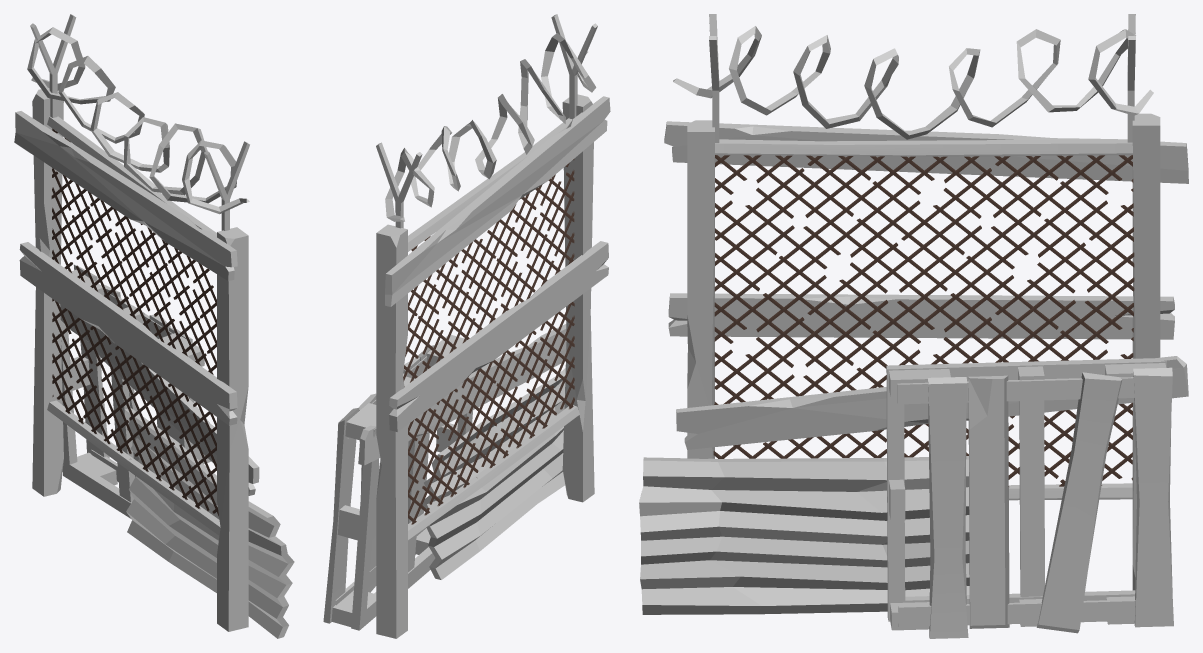
File: SM_Prop_Wall_Junk_06.fbx
3 renders of one model, left to right at view 1: azimuth 30°, elevation 25°; view 2: azimuth 150°, elevation 25°; view 3: azimuth 270°, elevation 25°, orthographic. The views are drawn at different scales.
Visible parts, largest first — view 1: SM_Prop_Wall_Junk_06; view 2: SM_Prop_Wall_Junk_06; view 3: SM_Prop_Wall_Junk_06.
Boxes of the visible parts, bbox=[...] form: SM_Prop_Wall_Junk_06: bbox=[14, 14, 294, 638]; SM_Prop_Wall_Junk_06: bbox=[323, 14, 610, 638]; SM_Prop_Wall_Junk_06: bbox=[639, 14, 1188, 638].
Bounding box in the file's own units: 72.41 × 322 × 279.
